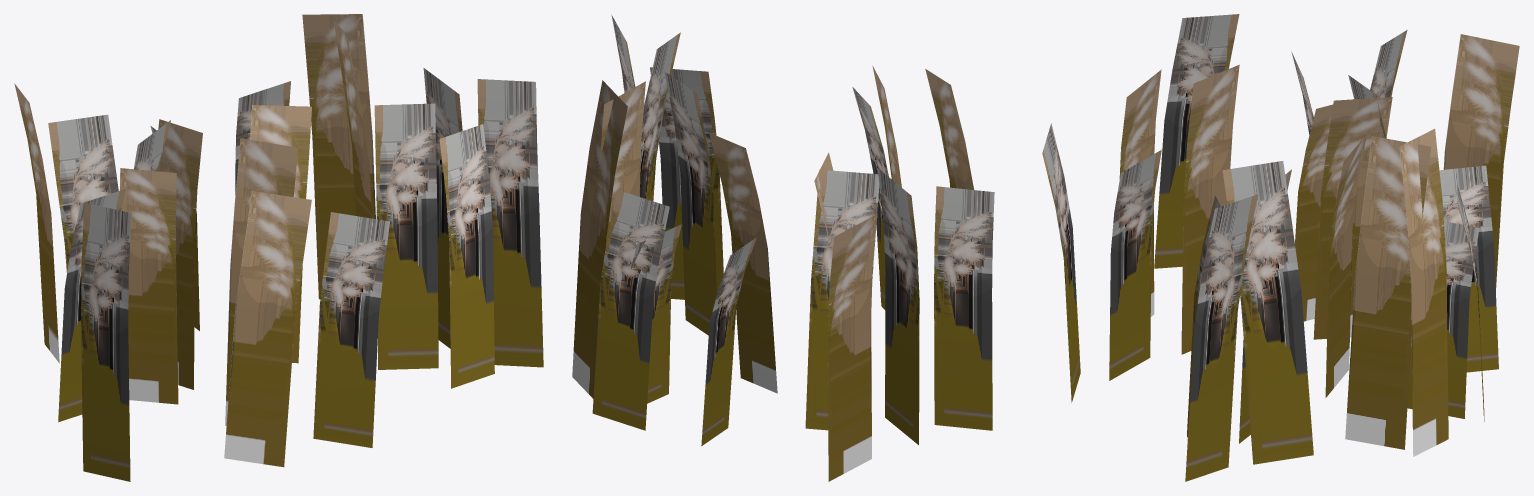
The model's file is FSF_Flower_003.FBX.
The picture shows the model from 3 angles, left to right: view 1: azimuth 30°, elevation 25°; view 2: azimuth 150°, elevation 25°; view 3: azimuth 270°, elevation 25°; orthographic projection.
Parts seen in each view (by area): view 1: FSF_Flower_003; view 2: FSF_Flower_003; view 3: FSF_Flower_003.
Boxes of the visible parts, x1,y1,x2,y2 form: FSF_Flower_003: (14,14,543,481); FSF_Flower_003: (572,14,1080,481); FSF_Flower_003: (1109,14,1519,481).
Bounding box in the file's own units: 160 × 101 × 124.
